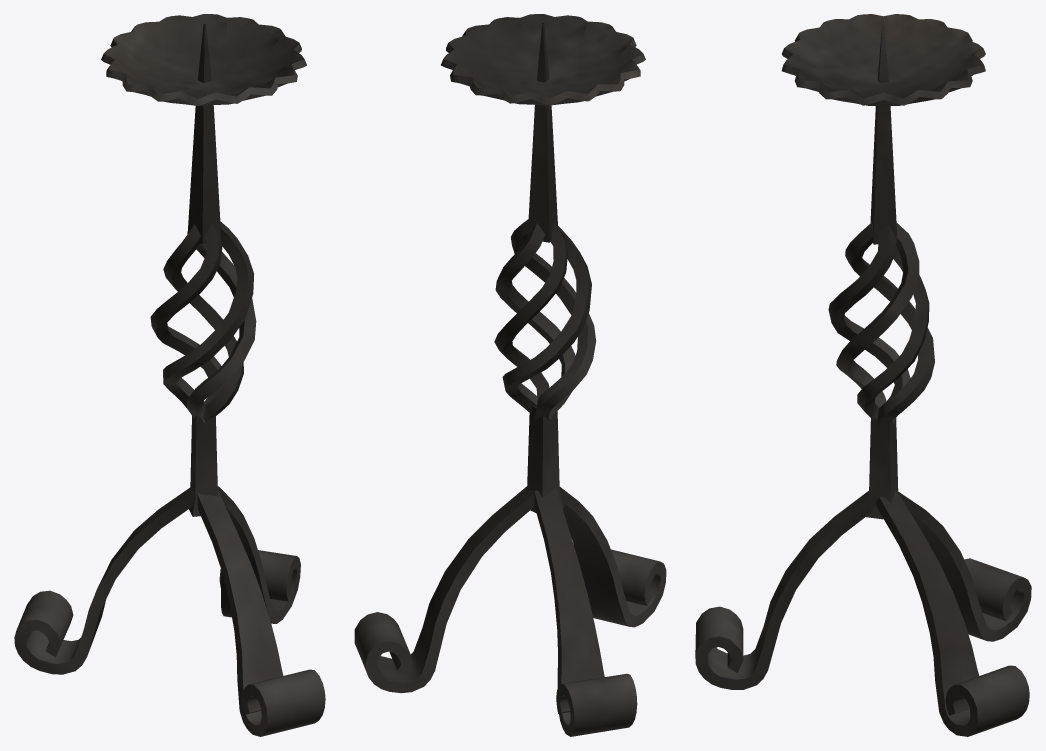
The model's file is Candle_Stand_01.fbx.
3 renders of one model, left to right at view 1: azimuth 30°, elevation 25°; view 2: azimuth 150°, elevation 25°; view 3: azimuth 270°, elevation 25°, orthographic.
Parts seen in each view (by area): view 1: Candle_Stand_01; view 2: Candle_Stand_01; view 3: Candle_Stand_01.
Boxes of the visible parts, box(x1,y1,x2,y2) form: Candle_Stand_01: box(14, 14, 325, 736); Candle_Stand_01: box(354, 14, 666, 736); Candle_Stand_01: box(695, 14, 1031, 736).
Size of what is drawn, in the model's own units: 45.29 by 98.78 by 45.88.
